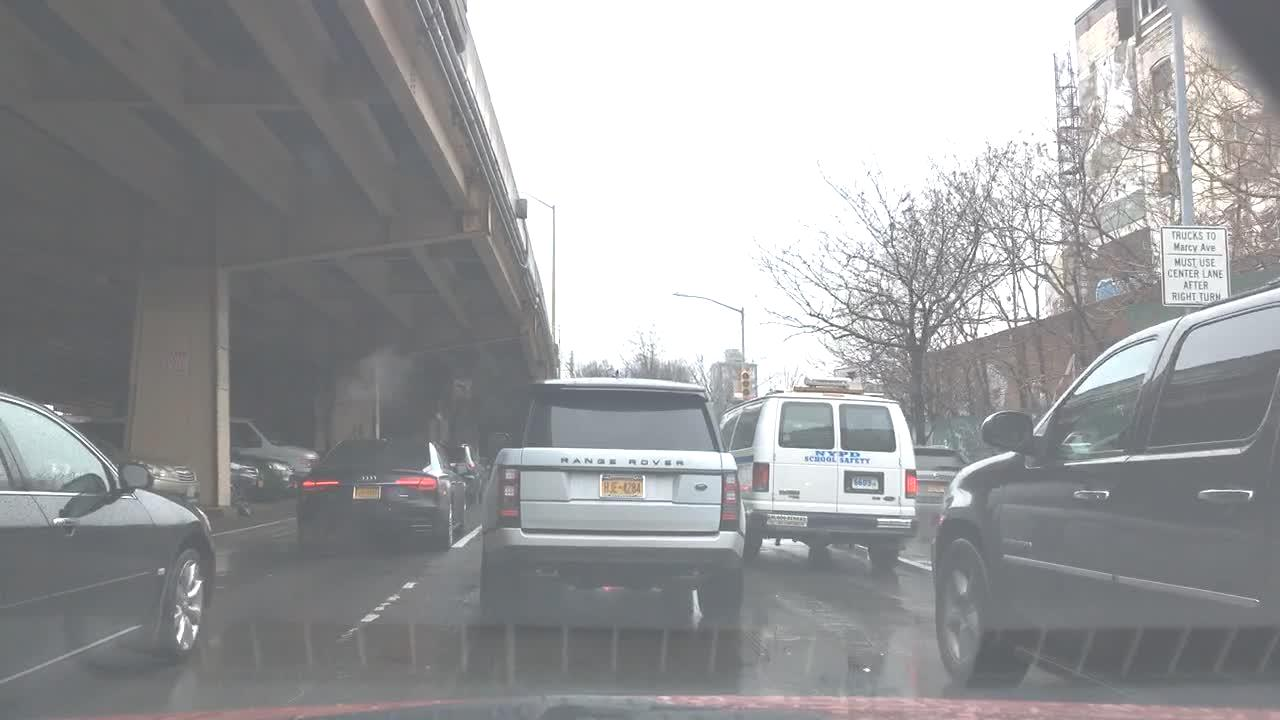Audi: (354, 469, 387, 488)
range rover: (555, 450, 690, 477)
